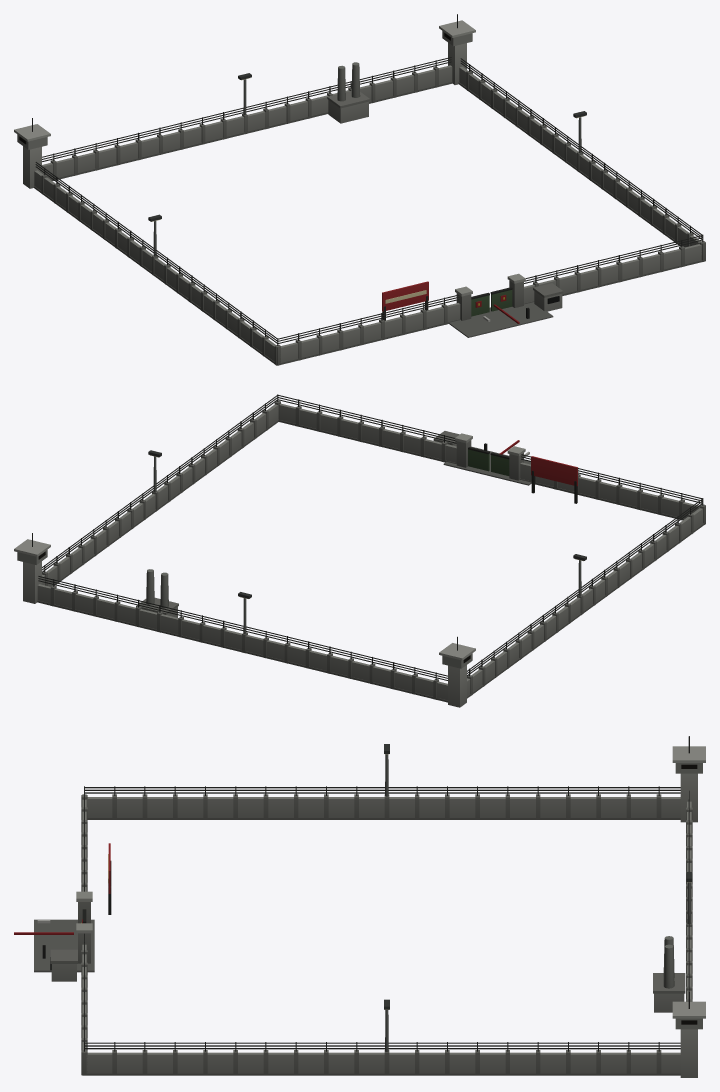
Rendered from m_factory_8176bd14.glb.
3 renders of one model, top to bottom at view 1: azimuth 30°, elevation 25°; view 2: azimuth 150°, elevation 25°; view 3: azimuth 270°, elevation 25°, orthographic. The views are drawn at different scales.
Parts seen in each view (by area): view 1: mesh; view 2: mesh; view 3: mesh.
Part boxes in pixels (left/top/right/bottom): mesh: left=14, top=14, right=705, bottom=365; mesh: left=14, top=394, right=705, bottom=707; mesh: left=14, top=736, right=705, bottom=1077.
Bounding box in the file's own units: 126 × 18 × 137.
